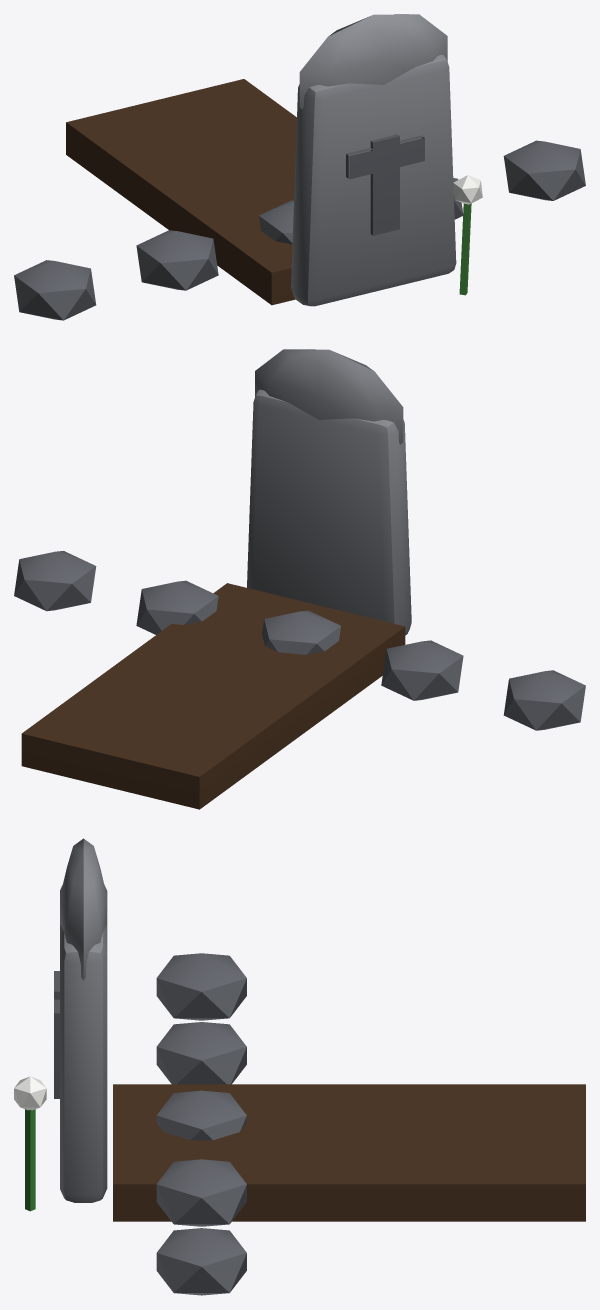
Rendered from grave.glb.
The picture shows the model from 3 angles, top to bottom: view 1: azimuth 30°, elevation 25°; view 2: azimuth 150°, elevation 25°; view 3: azimuth 270°, elevation 25°; orthographic projection. The views are drawn at different scales.
Visible parts, largest first — view 1: grave, grave_craft; view 2: grave, grave_craft; view 3: grave, grave_craft.
Part boxes in pixels (x1,y1,x2,y2): grave: (66,14,456,306); grave_craft: (14,140,585,320); grave: (21,349,411,809); grave_craft: (14,551,585,730); grave: (54,838,585,1221); grave_craft: (14,953,246,1295).
Size of the model in its own units: 2.52 by 1.19 by 1.94.
